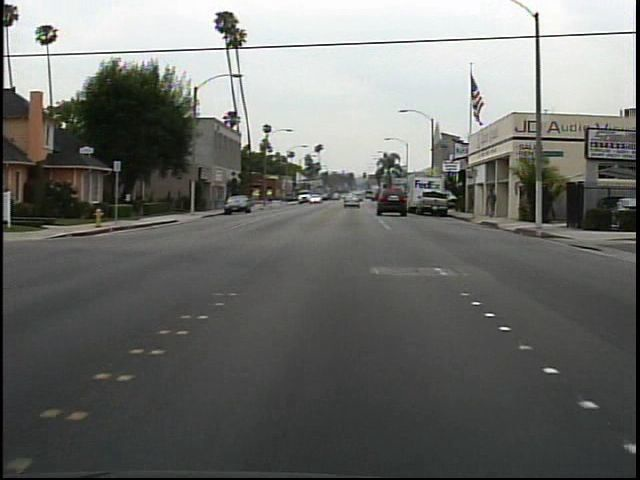person: (482, 186, 502, 221)
